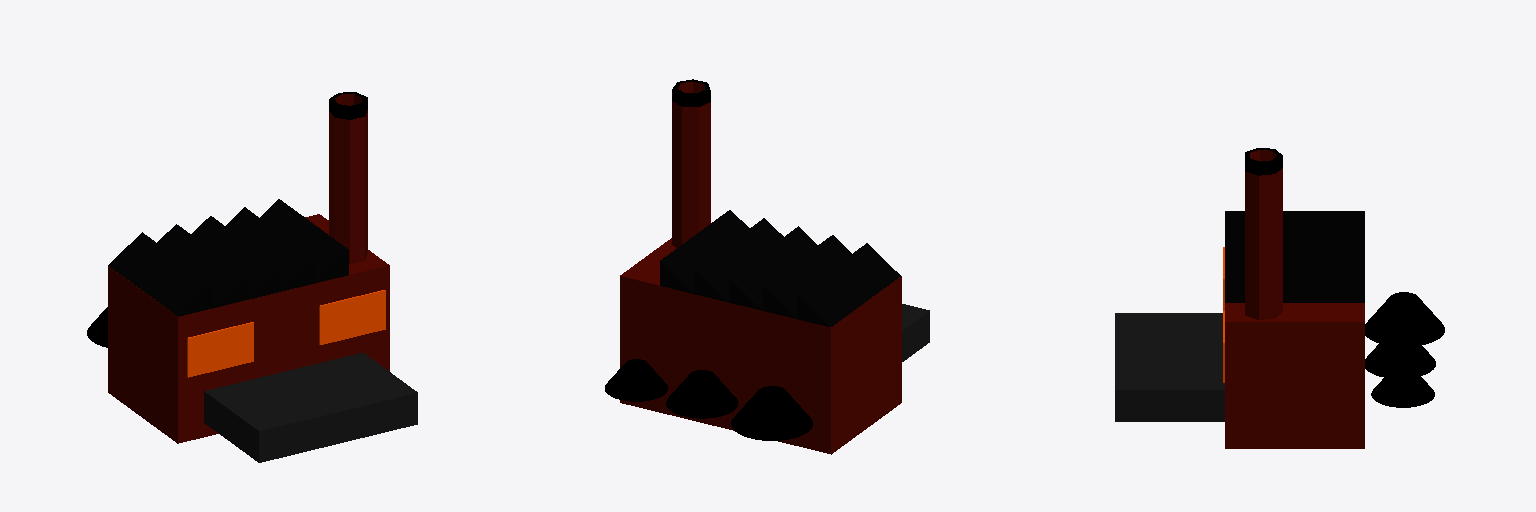
Rendered from food.obj.
3 views of the same model, side by side, from view 1: azimuth 30°, elevation 25°; view 2: azimuth 150°, elevation 25°; view 3: azimuth 270°, elevation 25° (orthographic).
Visible parts, largest first — view 1: Cube, Cube.001, Cube.004, Cylinder, Cube.003, Cube.002, Cylinder.002; view 2: Cube, Cube.001, Cylinder, Cylinder.002, Cylinder.003, Cylinder.001, Cube.004; view 3: Cube, Cube.004, Cube.001, Cylinder, Cylinder.002, Cylinder.003, Cylinder.001.
Boxes of the visible parts, <box> form: Cube: <box>108,214,389,443</box>; Cube.001: <box>108,199,348,316</box>; Cube.004: <box>204,353,417,462</box>; Cylinder: <box>329,92,367,263</box>; Cube.003: <box>187,322,253,377</box>; Cube.002: <box>319,290,385,344</box>; Cylinder.002: <box>87,307,107,347</box>; Cube: <box>620,238,901,454</box>; Cube.001: <box>660,210,900,326</box>; Cylinder: <box>672,79,710,247</box>; Cylinder.002: <box>731,386,812,440</box>; Cylinder.003: <box>666,370,738,418</box>; Cylinder.001: <box>605,359,667,401</box>; Cube.004: <box>902,304,929,361</box>; Cube: <box>1225,303,1364,448</box>; Cube.004: <box>1115,313,1224,421</box>; Cube.001: <box>1225,211,1364,302</box>; Cylinder: <box>1245,148,1282,319</box>; Cylinder.002: <box>1365,292,1444,344</box>; Cylinder.003: <box>1365,330,1435,376</box>; Cylinder.001: <box>1371,365,1434,407</box>.
Size of the model in its own units: 7.21 by 9.23 by 9.75.